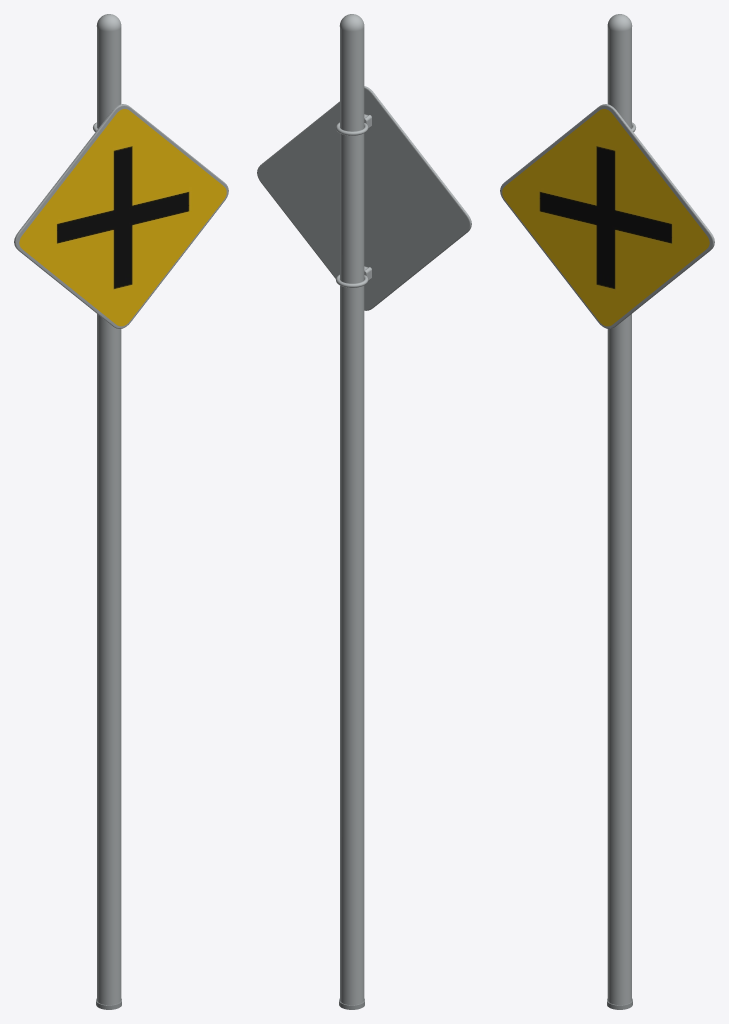
3 views of the same model, side by side, from view 1: azimuth 30°, elevation 25°; view 2: azimuth 150°, elevation 25°; view 3: azimuth 330°, elevation 25° (orthographic).
Parts seen in each view (by area): view 1: opt_symbol_cross, jp-sign-warning; view 2: jp-sign-warning; view 3: opt_symbol_cross, jp-sign-warning.
Part boxes in pixels (box(x1,y1,x2,y2)): opt_symbol_cross: box(19, 109, 226, 326); jp-sign-warning: box(14, 14, 228, 1009); jp-sign-warning: box(257, 14, 471, 1009); opt_symbol_cross: box(502, 109, 709, 326); jp-sign-warning: box(500, 14, 714, 1009).
Bounding box in the file's own units: 0.6177 × 2.73 × 0.1108.
7 materials, 3 textured.
